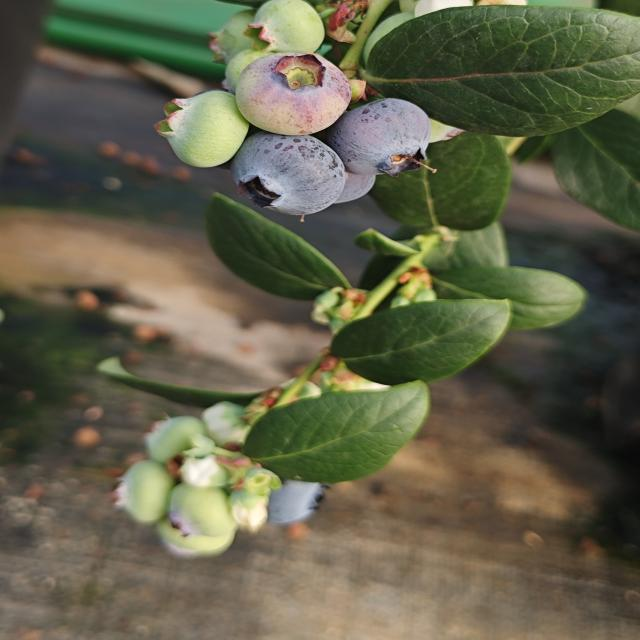ripe: (331, 89, 436, 178), (240, 133, 352, 209), (308, 136, 382, 208), (252, 470, 324, 523)
